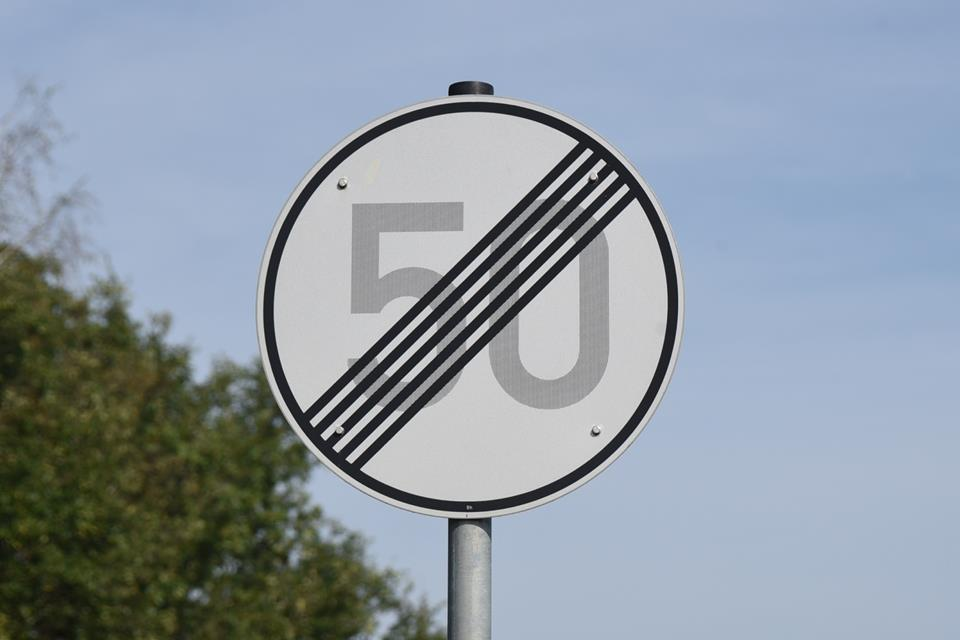aufgehoben: (255, 95, 684, 523)
